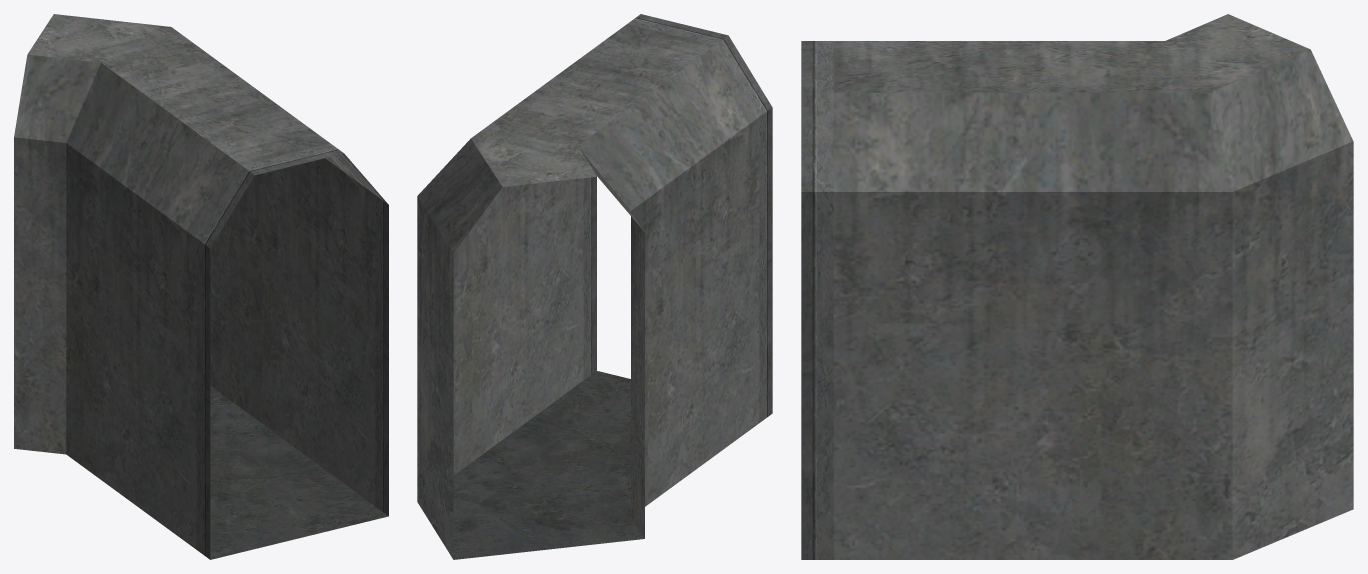
The model's file is thm_yavn_jedi_enclave_dark_r23_hallwaya0_mesh.fbx.
3 renders of one model, left to right at view 1: azimuth 30°, elevation 25°; view 2: azimuth 150°, elevation 25°; view 3: azimuth 270°, elevation 25°, orthographic. The views are drawn at different scales.
Visible parts, largest first — view 1: mesh_node; view 2: mesh_node; view 3: mesh_node.
Part boxes in pixels (x1,y1,x2,y2): mesh_node: (14,14,388,559); mesh_node: (417,14,772,559); mesh_node: (801,14,1353,559).
Size of the model in its own units: 3.56 by 6 by 6.8.
